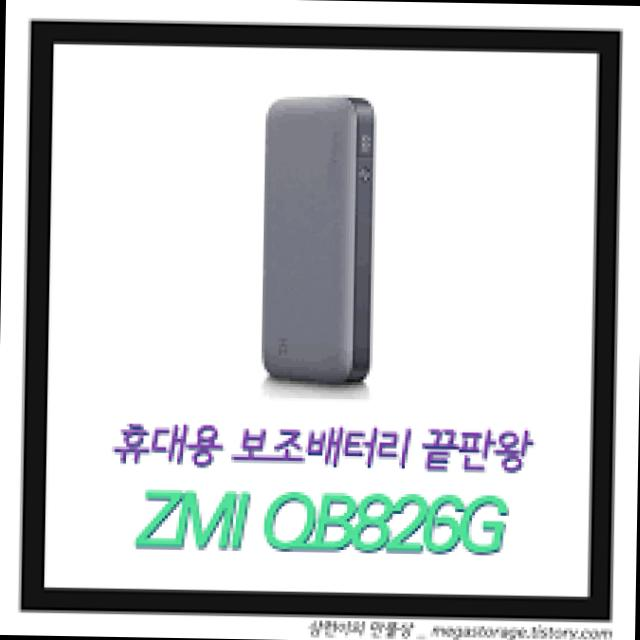power_bank: (262, 94, 377, 392)
